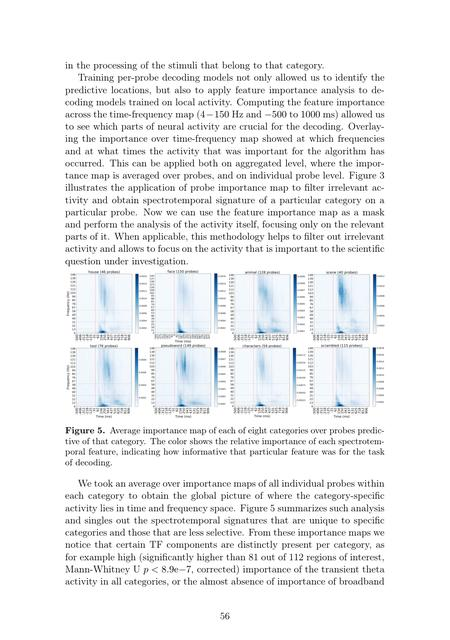box: (65, 267, 387, 419)
